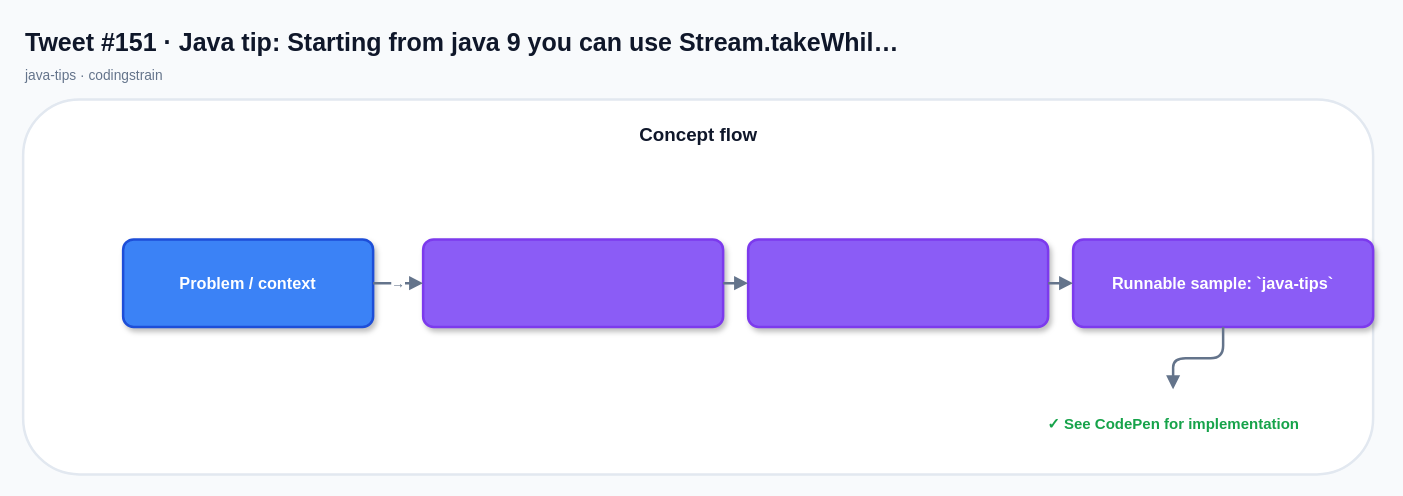
This 1403x496 diagram has some shape labels left out. The centre of each missing label's shape, as x and y in pixels:
"Java tip: Starting from java 9 you can use Stream.takeWhile() for easy" goes at [898,284].
"💡 Java tip: Starting from java 9 you can use Stream.takeWhile() for ea" goes at [573,284].
